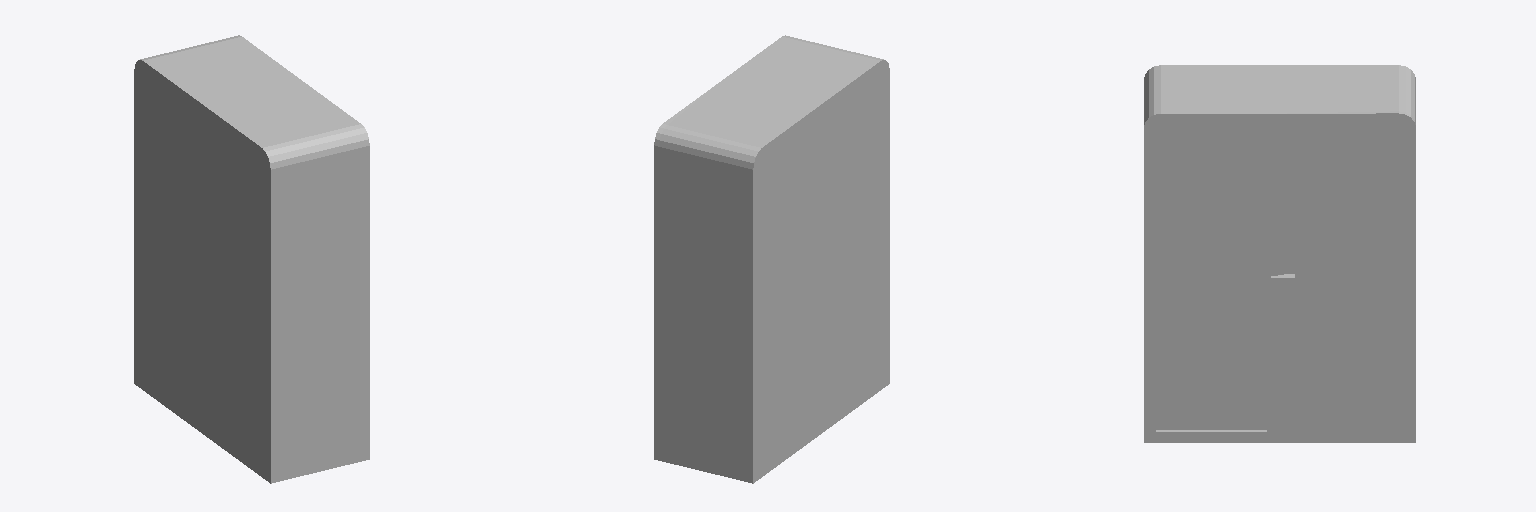
File: Cabinet.obj
The picture shows the model from 3 angles: view 1: azimuth 30°, elevation 25°; view 2: azimuth 150°, elevation 25°; view 3: azimuth 270°, elevation 25°; orthographic projection.
Parts seen in each view (by area): view 1: Almira, Door_1; view 2: Almira, Door_2; view 3: Door_2, Door_1, Almira.
Boxes of the visible parts, x1,y1,x2,y2 form: Almira: [134, 37, 364, 483]; Door_1: [297, 80, 369, 460]; Almira: [659, 37, 889, 483]; Door_2: [654, 80, 726, 460]; Door_2: [1271, 111, 1415, 442]; Door_1: [1144, 111, 1279, 442]; Almira: [1144, 65, 1415, 122].
Bounding box in the file's own units: 0.68 × 2 × 1.5.